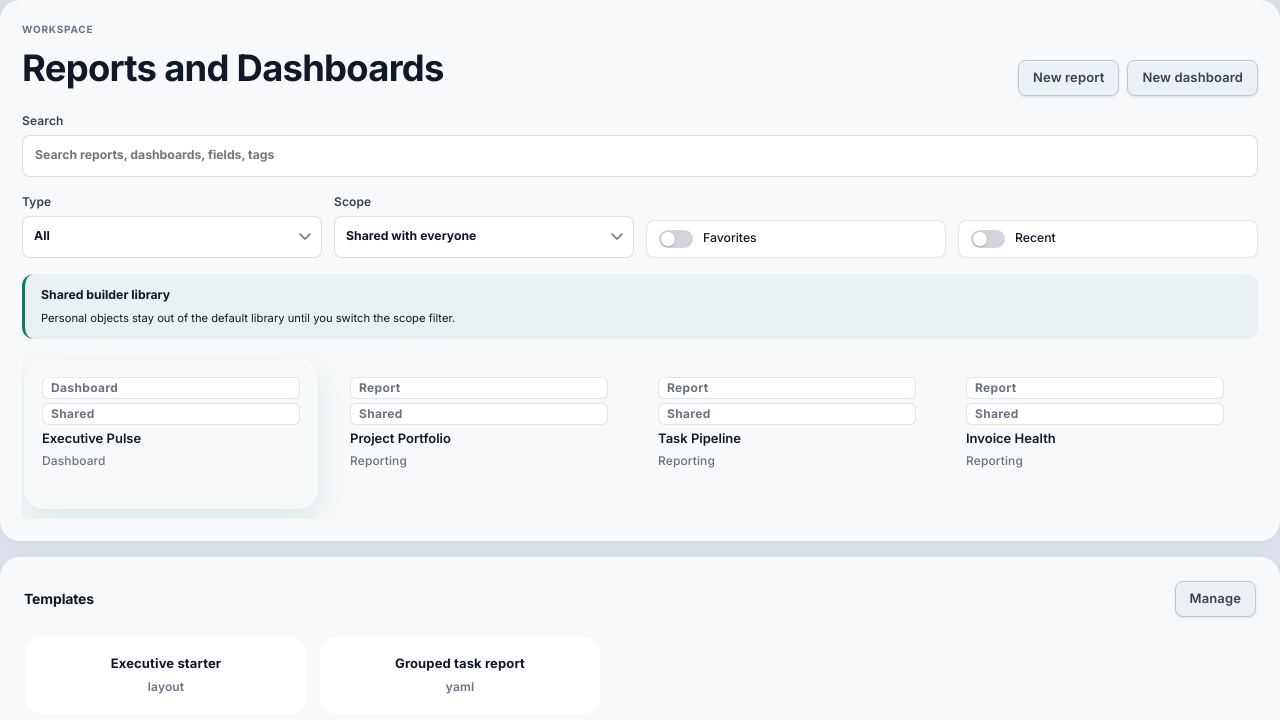
StudioLibrarySidebar › defaults to shared objects and can switch to personal scope
Check: the text "Shared builder library" is shown, box x1=41 y1=287 x2=170 y2=302
Check: the text "My Active Projects" is not shown
Select "Personal" in the dropdown labelled "Scope" at (484, 237), box x1=334 y1=216 x2=634 y2=258
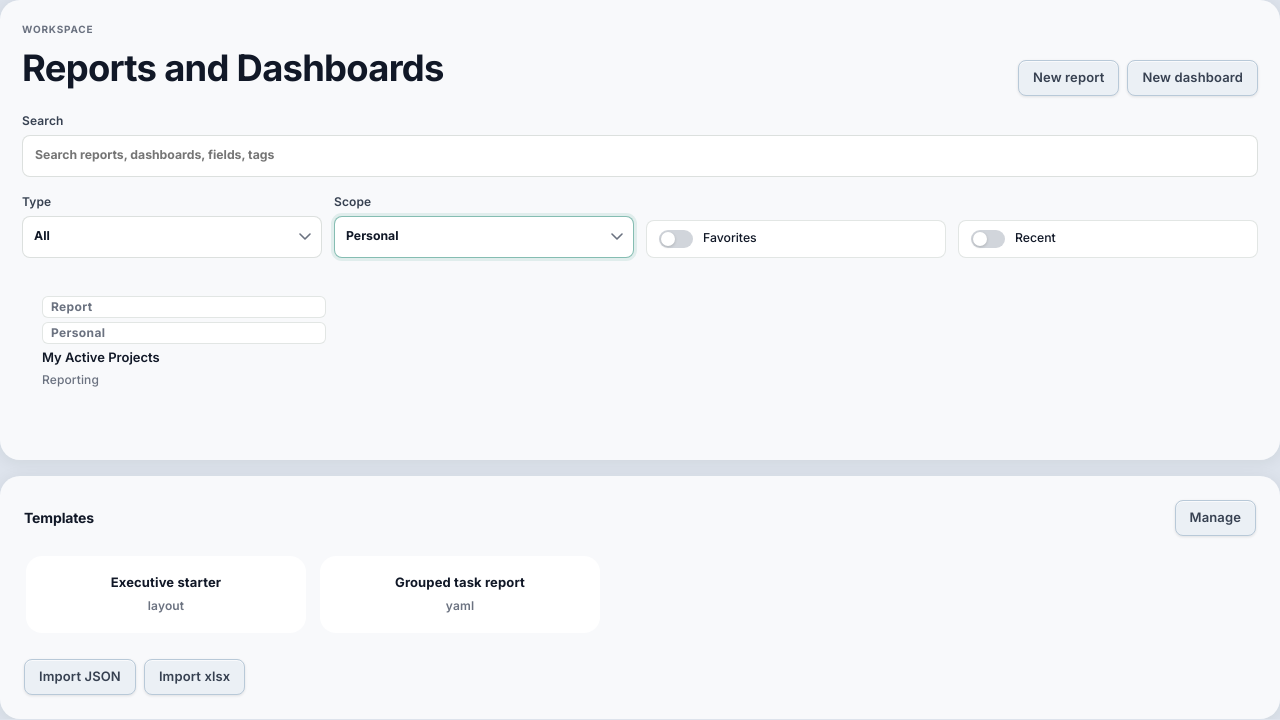
Check: the text "My Active Projects" is shown, box x1=42 y1=349 x2=160 y2=365
Check: the text "Shared builder library" is gone
